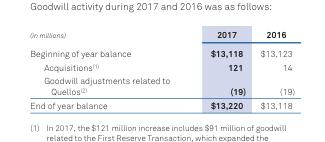table: (29, 28, 294, 110)
table column: (29, 28, 189, 110), (189, 28, 252, 110), (252, 28, 294, 110)
table column header: (29, 28, 294, 43)
table row: (29, 73, 294, 98), (29, 43, 294, 59), (29, 28, 294, 43), (29, 59, 294, 73), (29, 98, 294, 110)
